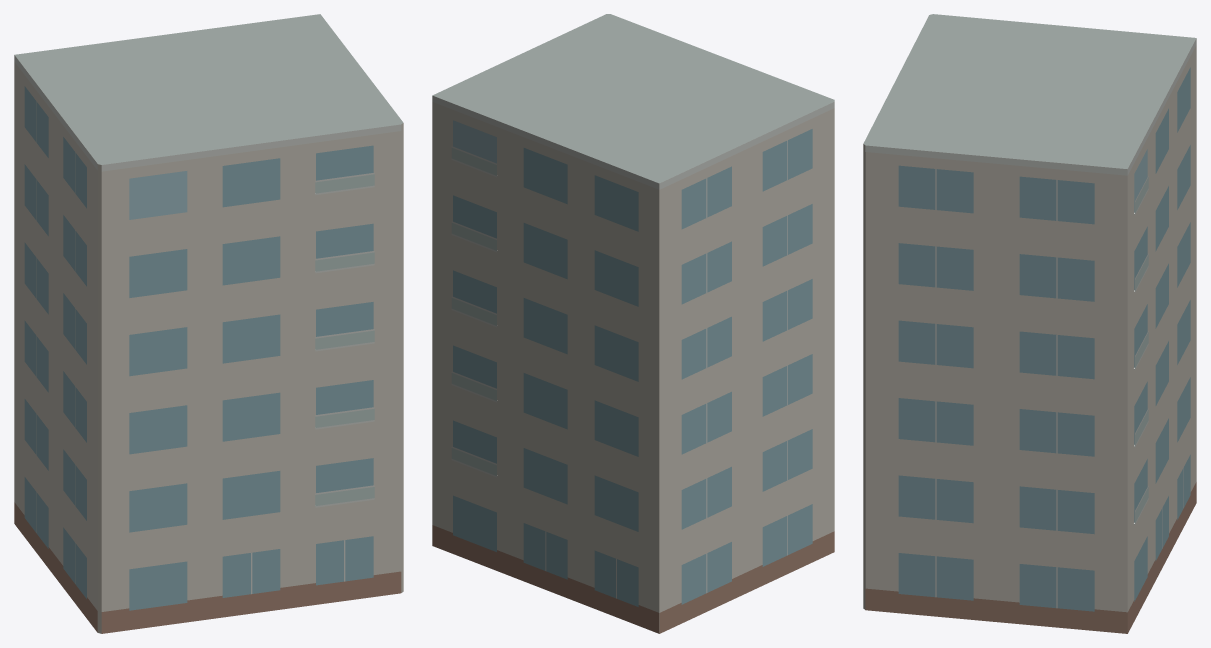
The model's file is survey-upis-32653322.glb.
The picture shows the model from 3 angles, left to right: view 1: azimuth 30°, elevation 25°; view 2: azimuth 150°, elevation 25°; view 3: azimuth 270°, elevation 25°; orthographic projection. The views are drawn at different scales.
Parts seen in each view (by area): view 1: survey-upis-32653322.tmp; view 2: survey-upis-32653322.tmp; view 3: survey-upis-32653322.tmp.
Part boxes in pixels (x1,y1,x2,y2): survey-upis-32653322.tmp: [14, 14, 403, 633]; survey-upis-32653322.tmp: [432, 14, 834, 633]; survey-upis-32653322.tmp: [863, 14, 1196, 633].
Bounding box in the file's own units: 12.47 × 17.4 × 11.32.
